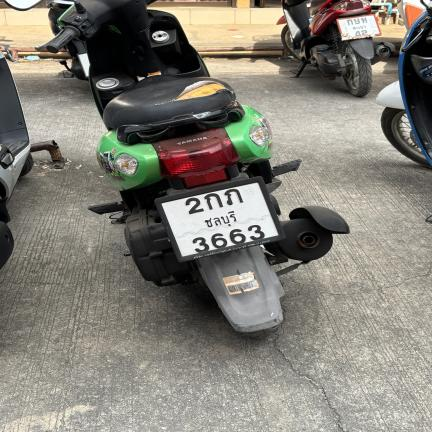2: (181, 196, 205, 216)
3: (244, 221, 268, 241), (188, 235, 212, 253)
6: (226, 225, 249, 245), (207, 230, 231, 249)
A01: (200, 191, 225, 212)
A32: (221, 187, 245, 207)
CBI: (200, 207, 242, 232)
